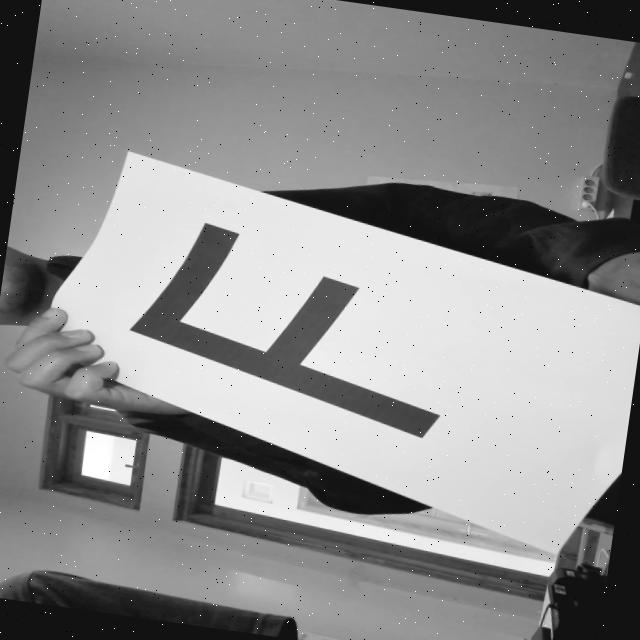f: (116, 213, 477, 447)
